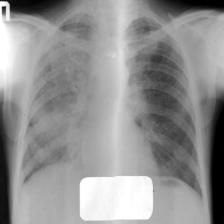tuberculosis: (15, 5, 207, 223)
